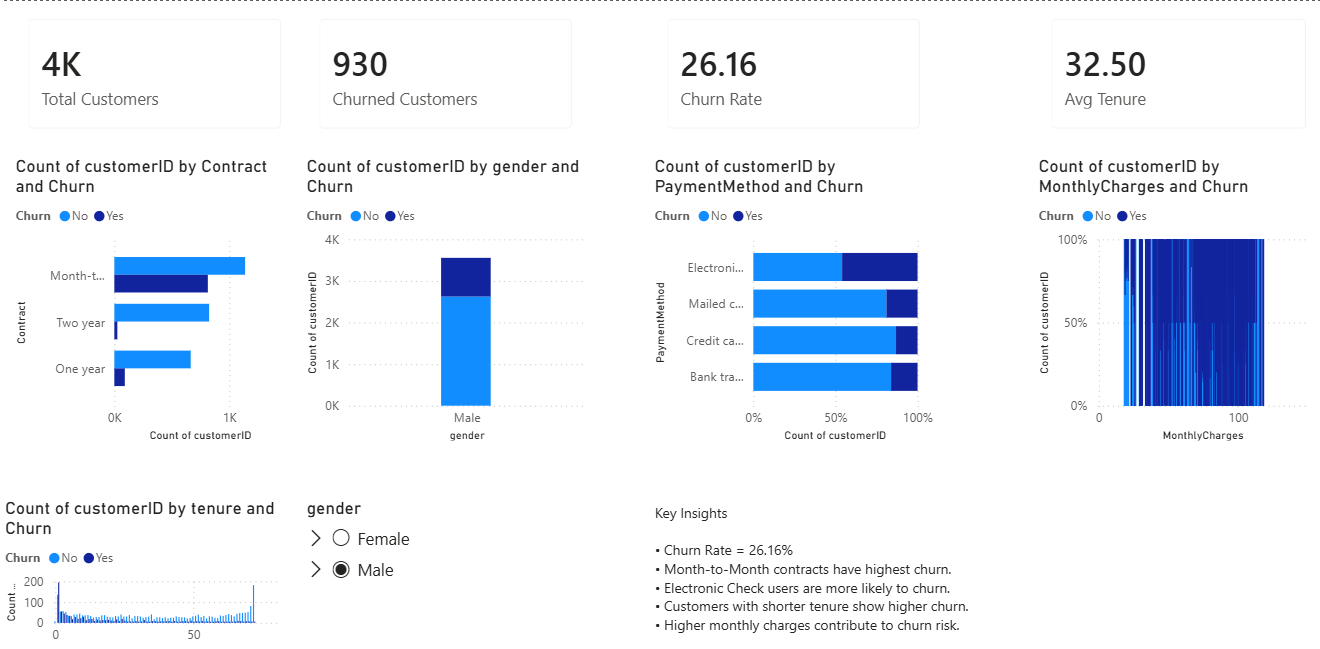

Layout of this report page (visuals, bound fields, positions):
{"tool":"powerbi","page":{"name":"Page 1","canvas":[1280,720],"ordinal":0},"visuals":[{"type":"cardVisual","fields":{"Data":["Telco-Customer-Churn.Total Customers"]},"box":[10.5,0,278.7,140.2],"z":0},{"type":"cardVisual","fields":{"Data":["Telco-Customer-Churn.Churned Customers"]},"box":[290.9,0,278.7,140.2],"z":1000},{"type":"cardVisual","fields":{"Data":["Telco-Customer-Churn.Churn Rate"]},"box":[627.4,0,278.7,140.2],"z":2000},{"type":"cardVisual","fields":{"Data":["Telco-Customer-Churn.Avg Tenure"]},"box":[999,0,280.4,140.2],"z":3000},{"type":"clusteredBarChart","fields":{"Y":["CountNonNull(Telco-Customer-Churn.customerID)"],"Category":["Telco-Customer-Churn.Contract"],"Series":["Telco-Customer-Churn.Churn"]},"box":[10.5,149,278.7,280.4],"z":4000},{"type":"columnChart","fields":{"Category":["Telco-Customer-Churn.gender"],"Y":["CountNonNull(Telco-Customer-Churn.customerID)"],"Series":["Telco-Customer-Churn.Churn"]},"box":[290.9,149,278.7,280.4],"z":5000},{"type":"hundredPercentStackedBarChart","fields":{"Category":["Telco-Customer-Churn.PaymentMethod"],"Y":["CountNonNull(Telco-Customer-Churn.customerID)"],"Series":["Telco-Customer-Churn.Churn"]},"box":[627.4,149,278.7,280.4],"z":5001},{"type":"hundredPercentStackedColumnChart","fields":{"Category":["Telco-Customer-Churn.MonthlyCharges"],"Y":["CountNonNull(Telco-Customer-Churn.customerID)"],"Series":["Telco-Customer-Churn.Churn"]},"box":[999,149,280.4,280.4],"z":5002},{"type":"clusteredColumnChart","fields":{"Category":["Telco-Customer-Churn.tenure"],"Y":["CountNonNull(Telco-Customer-Churn.customerID)"],"Series":["Telco-Customer-Churn.Churn"]},"box":[0,480.2,278.7,150.7],"z":5003},{"type":"listSlicer","fields":{"Values":["Telco-Customer-Churn.gender","Telco-Customer-Churn.Contract","Telco-Customer-Churn.InternetService","Telco-Customer-Churn.PaymentMethod"]},"box":[291,480,279,151],"z":5004},{"type":"textbox","box":[627.4,480.2,560.8,191],"z":5005}]}

Visuals, with their boxes on the page's 1280x720 design canvas (x1, y1, x2, y2). These are canvas units, not pixel positions in the 1320x649 screenshot, which may show the page scaled, cropped or inside an application window:
cardVisual - Telco-Customer-Churn.Total Customers: [10,0,289,140]
cardVisual - Telco-Customer-Churn.Churned Customers: [291,0,570,140]
cardVisual - Telco-Customer-Churn.Churn Rate: [627,0,906,140]
cardVisual - Telco-Customer-Churn.Avg Tenure: [999,0,1279,140]
clusteredBarChart - CountNonNull(Telco-Customer-Churn.customerID) x Telco-Customer-Churn.Contract: [10,149,289,429]
columnChart - Telco-Customer-Churn.gender x CountNonNull(Telco-Customer-Churn.customerID): [291,149,570,429]
hundredPercentStackedBarChart - Telco-Customer-Churn.PaymentMethod x CountNonNull(Telco-Customer-Churn.customerID): [627,149,906,429]
hundredPercentStackedColumnChart - Telco-Customer-Churn.MonthlyCharges x CountNonNull(Telco-Customer-Churn.customerID): [999,149,1279,429]
clusteredColumnChart - Telco-Customer-Churn.tenure x CountNonNull(Telco-Customer-Churn.customerID): [0,480,279,631]
listSlicer - Telco-Customer-Churn.gender x Telco-Customer-Churn.Contract: [291,480,570,631]
textbox: [627,480,1188,671]
